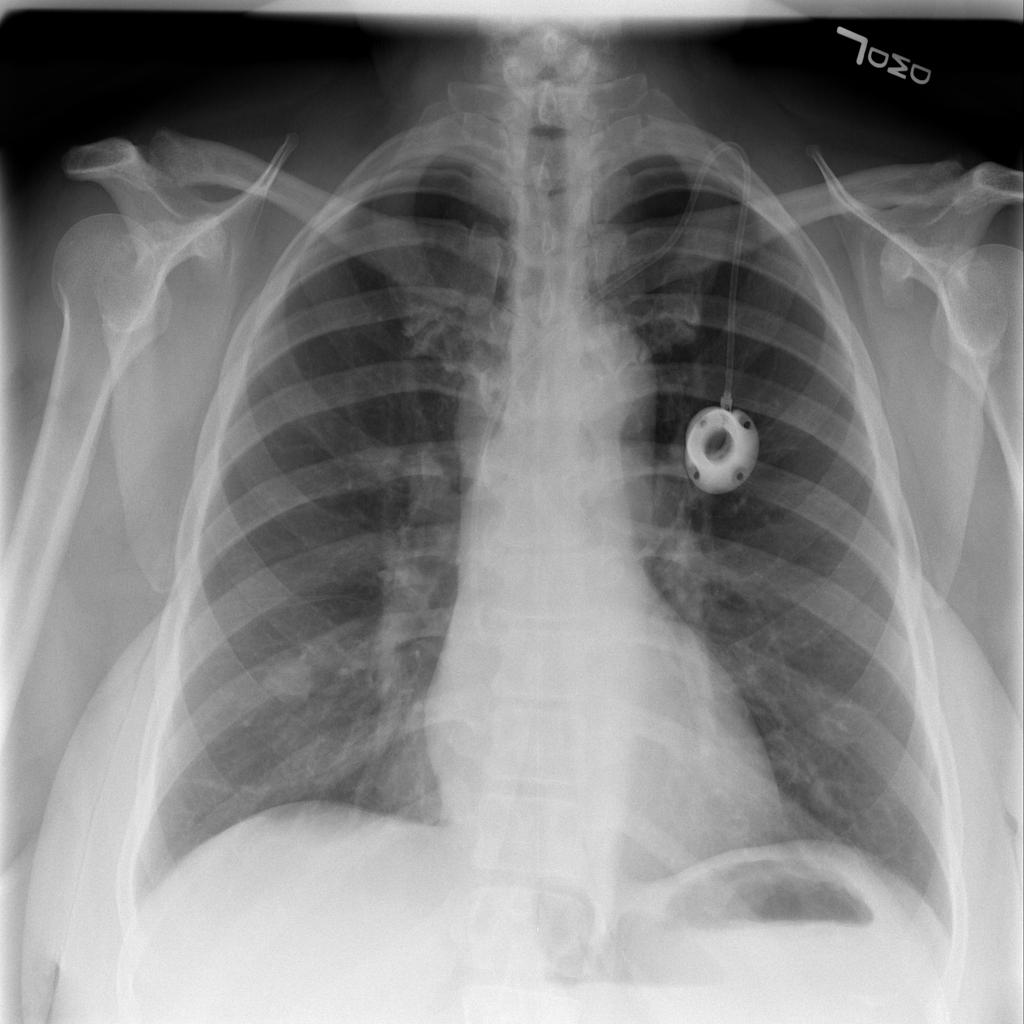nodule: (251, 639, 329, 715), (790, 757, 860, 830)
